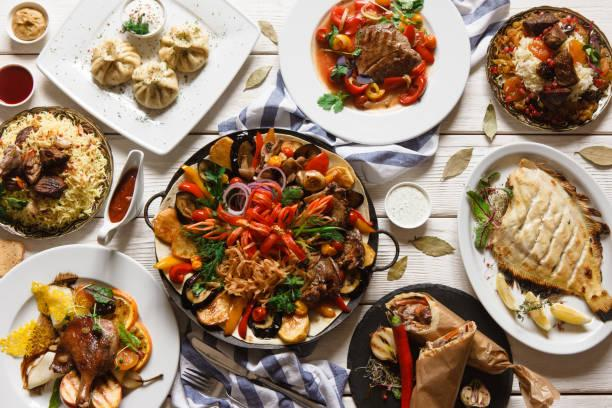Braised Crucian Carp: (150, 128, 381, 345), (38, 0, 257, 156), (458, 141, 610, 352), (0, 244, 178, 407), (277, 1, 465, 147), (346, 283, 509, 406), (485, 6, 611, 132), (2, 106, 114, 238)
